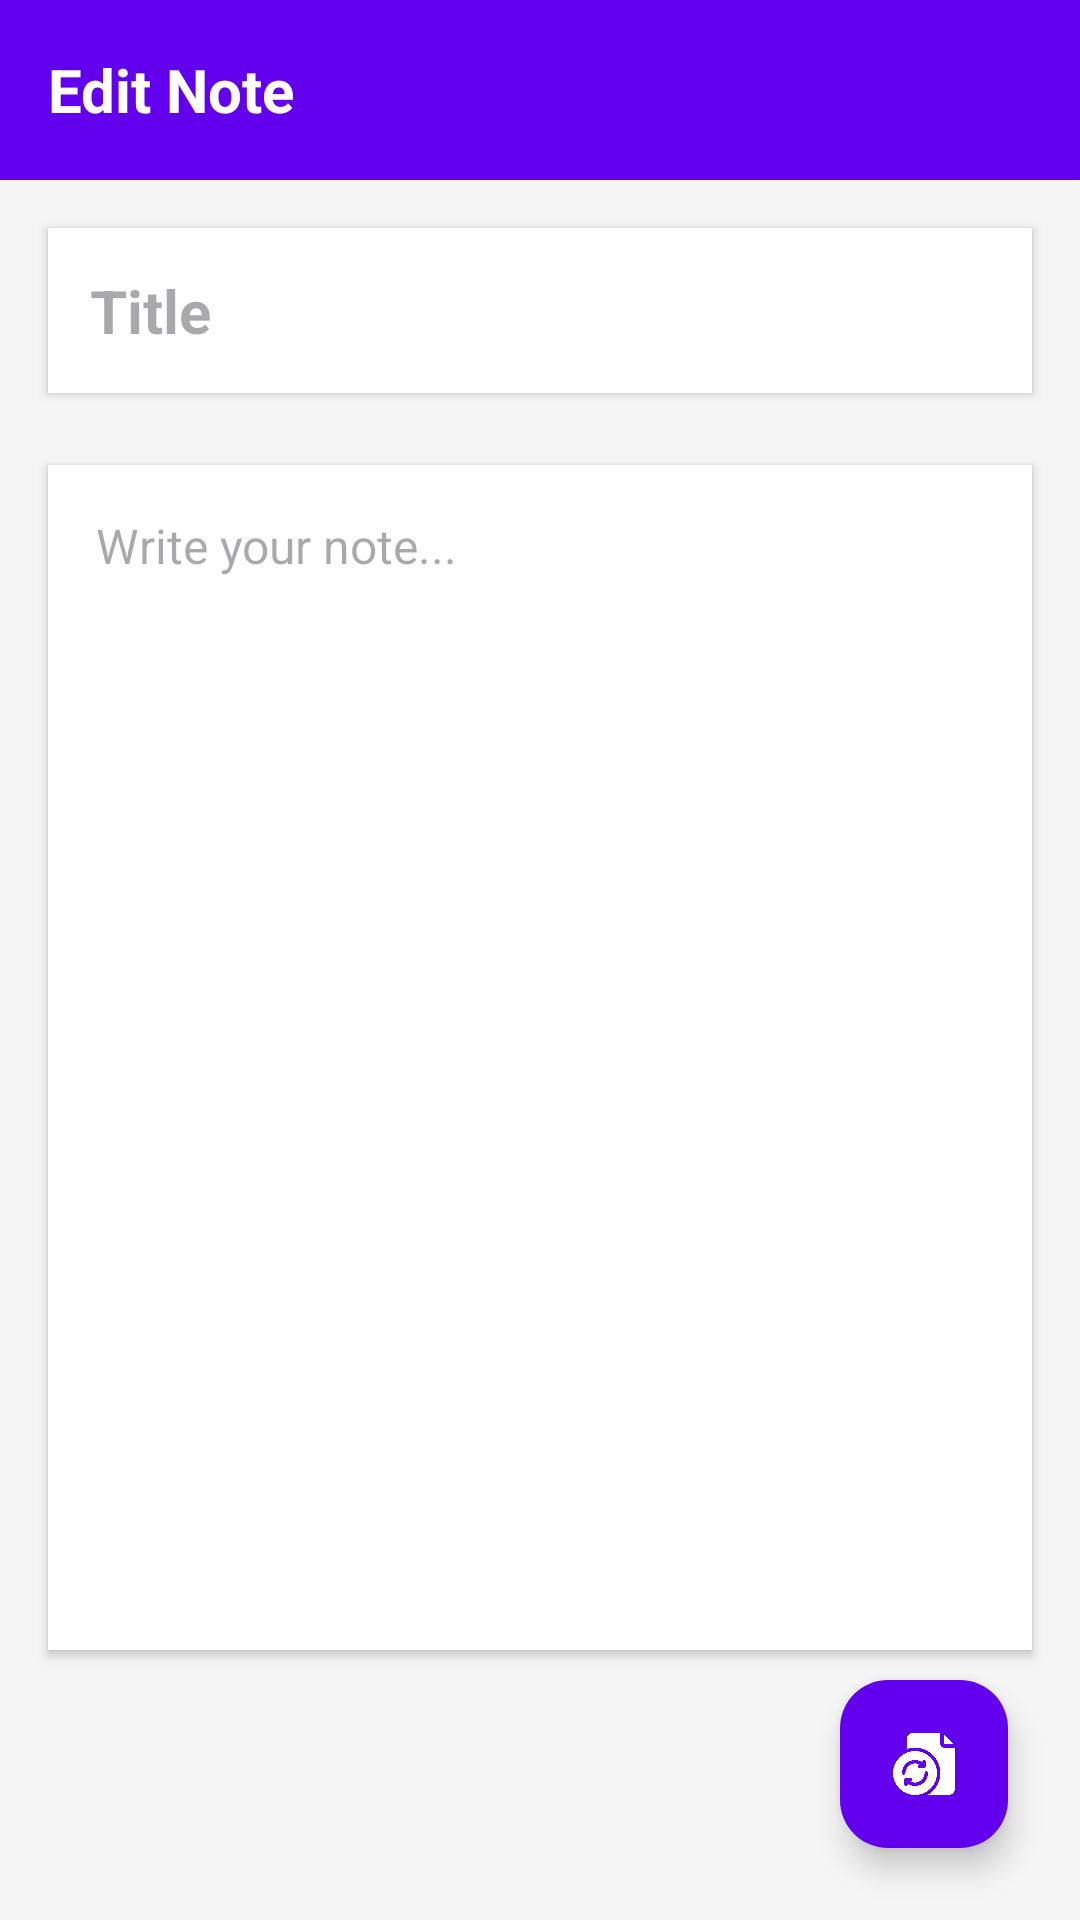

Screen size 1080×1920. Icon name, then its center in pixels as [x,y]:
update: [924,1764]
